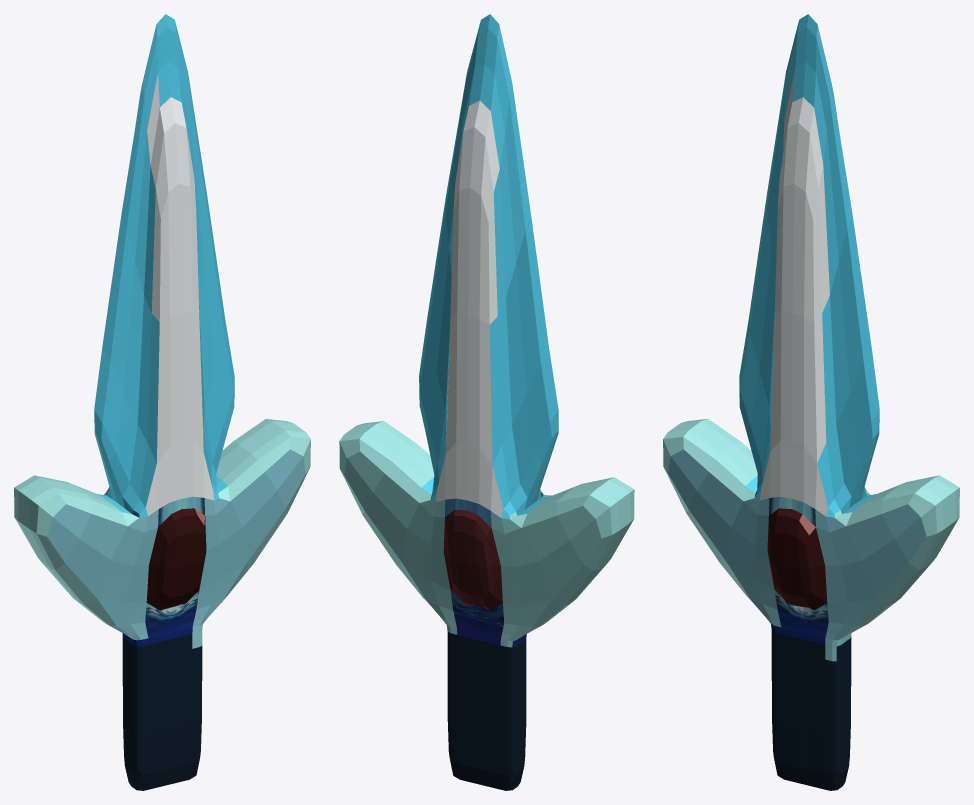
File: reizaabureido1217.fbx
3 renders of one model, left to right at view 1: azimuth 30°, elevation 25°; view 2: azimuth 150°, elevation 25°; view 3: azimuth 330°, elevation 25°, orthographic.
Parts seen in each view (by area): view 1: Cube; view 2: Cube; view 3: Cube.
Part boxes in pixels (x1,y1,x2,y2): Cube: (14,14,310,790); Cube: (339,14,634,790); Cube: (663,14,959,790).
Size of the model in its own units: 588 by 1566 by 179.
1 material, 1 textured.
